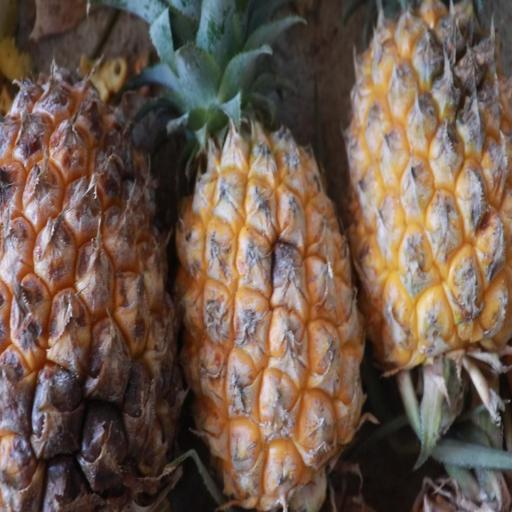Pineapple - v8 v1: (174, 50, 367, 512), (0, 59, 184, 512), (342, 0, 511, 384)
